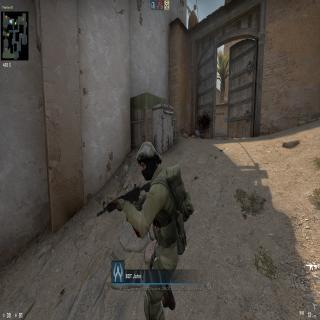CT-Head: (136, 138, 162, 184)
